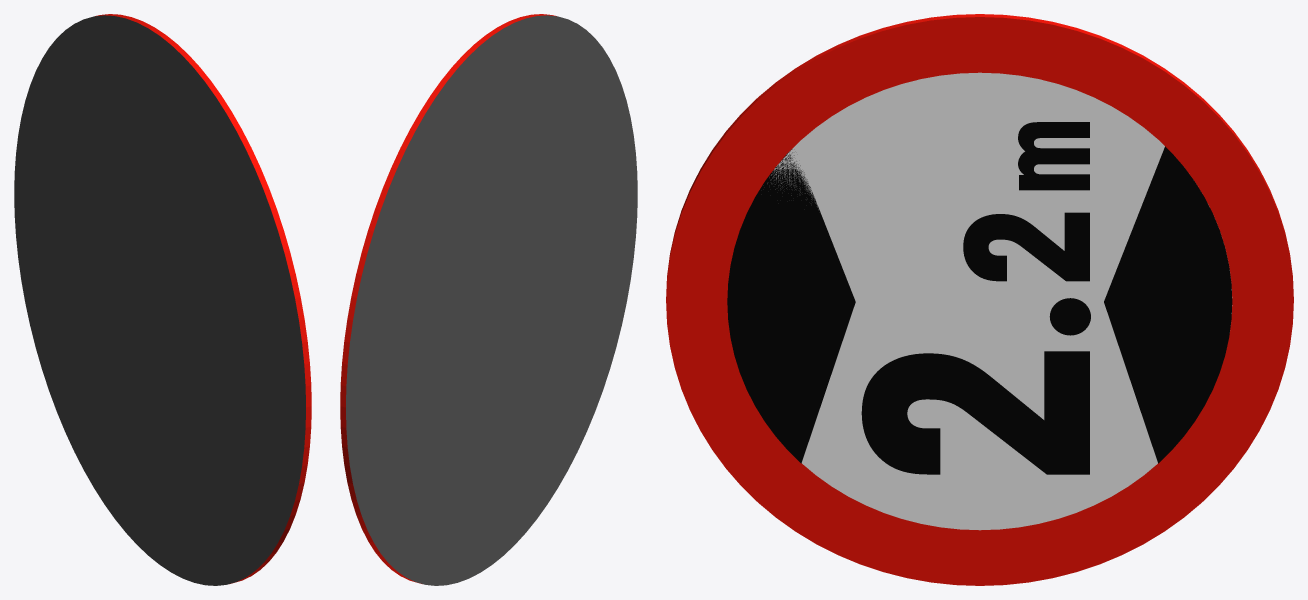
3 renders of one model, left to right at view 1: azimuth 30°, elevation 25°; view 2: azimuth 150°, elevation 25°; view 3: azimuth 270°, elevation 25°, orthographic. The views are drawn at different scales.
Visible parts, largest first — view 1: 圆环; view 2: 圆环; view 3: 圆环, 圆环.001, 文本, 文本.002, 文本.003, 文本.001.
Part boxes in pixels (bbox=[...]): 圆环: bbox=[14, 14, 311, 585]; 圆环: bbox=[340, 14, 637, 585]; 圆环: bbox=[666, 14, 1293, 585]; 圆环.001: bbox=[727, 146, 1232, 463]; 文本: bbox=[861, 351, 1089, 474]; 文本.002: bbox=[963, 212, 1089, 281]; 文本.003: bbox=[1018, 122, 1089, 190]; 文本.001: bbox=[1049, 298, 1090, 335].
Size of the model in its own units: 0.0113 by 0.8 by 0.8.
